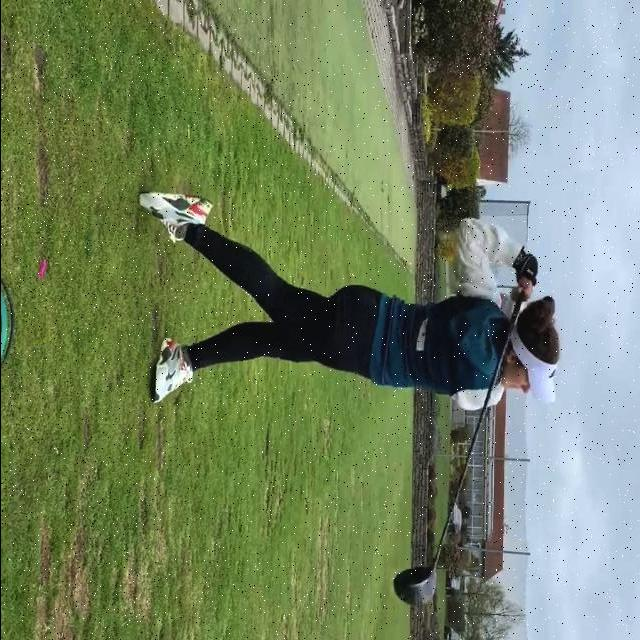ClubHandle: (391, 276, 528, 607)
ClubHead: (394, 570, 430, 604)
